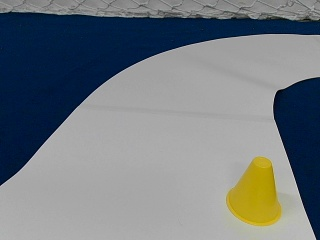cone: (226, 157, 281, 224)
